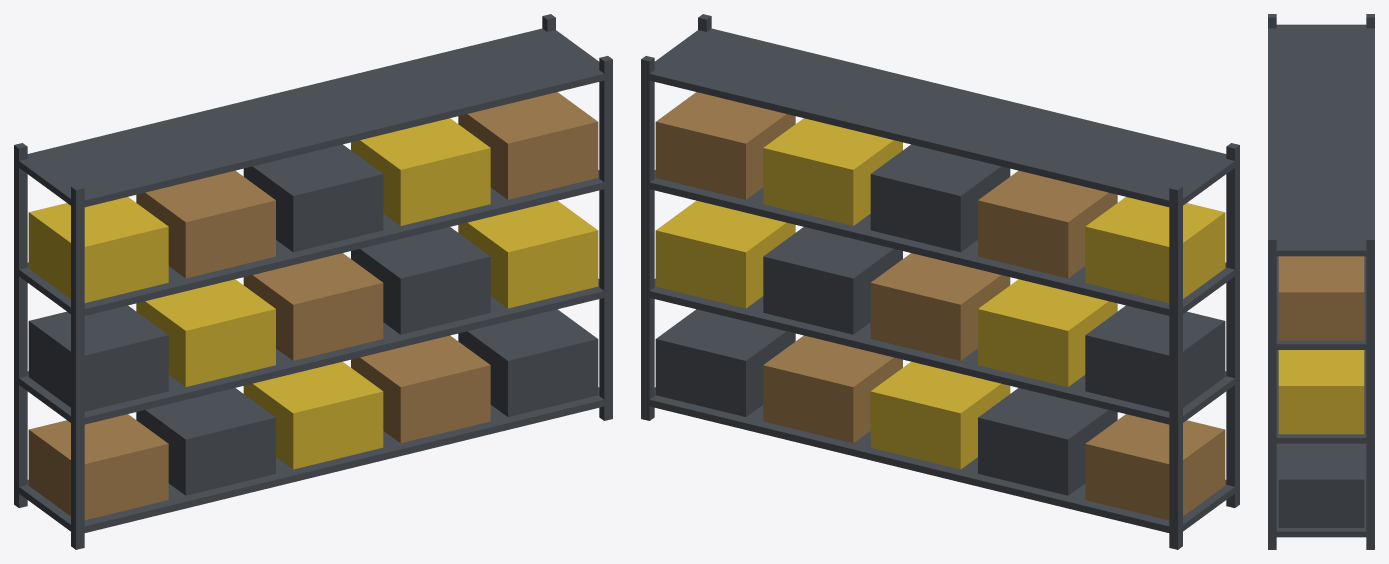
Rendered from parts shelf.glb.
3 renders of one model, left to right at view 1: azimuth 30°, elevation 25°; view 2: azimuth 150°, elevation 25°; view 3: azimuth 270°, elevation 25°, orthographic. The views are drawn at different scales.
Parts seen in each view (by area): view 1: parts shelf; view 2: parts shelf; view 3: parts shelf.
Boxes of the visible parts, x1=… form: parts shelf: x1=14, y1=14, x2=612, y2=549; parts shelf: x1=641, y1=14, x2=1239, y2=549; parts shelf: x1=1268, y1=14, x2=1374, y2=549.
Size of the model in its own units: 2.5 by 1.6 by 0.5.
